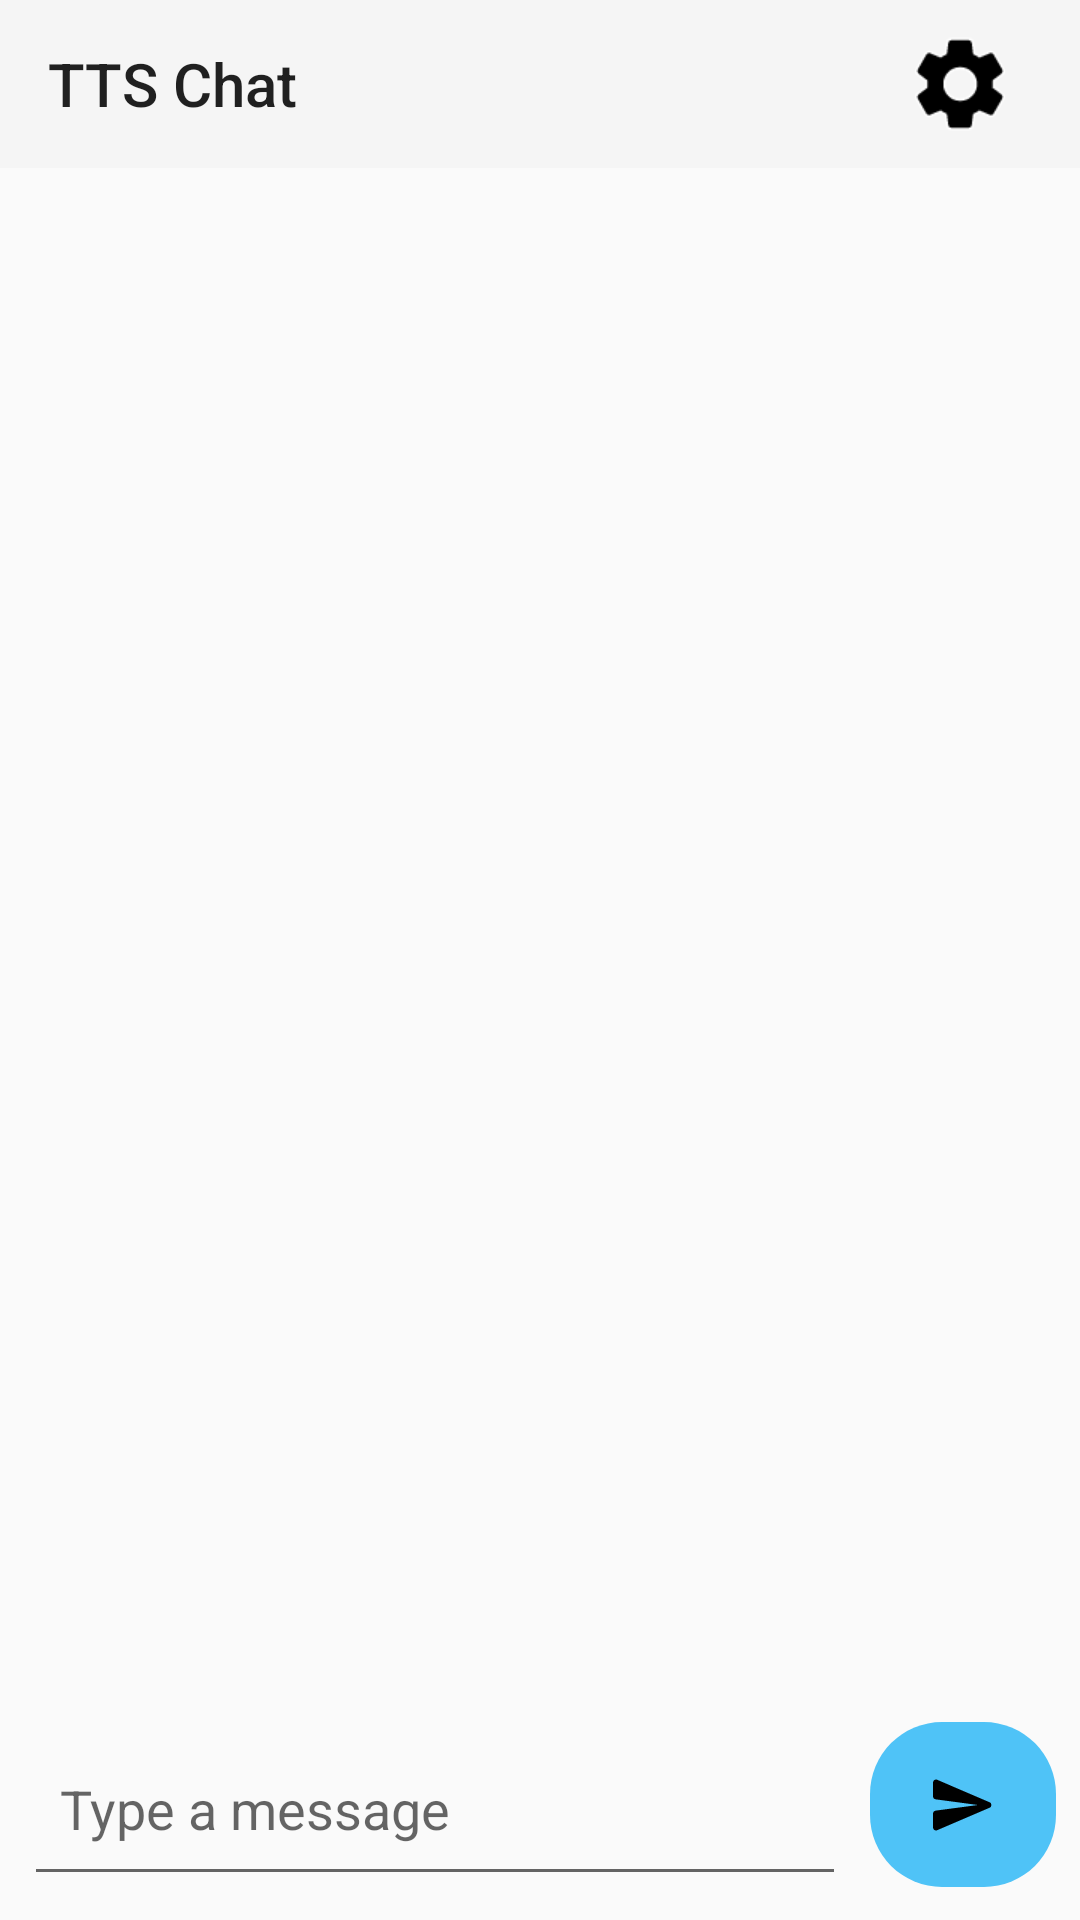

Point at icon controls on the screen. Image size 1080px x 1920px, points as [x,y].
Send Message: [963,1804]
